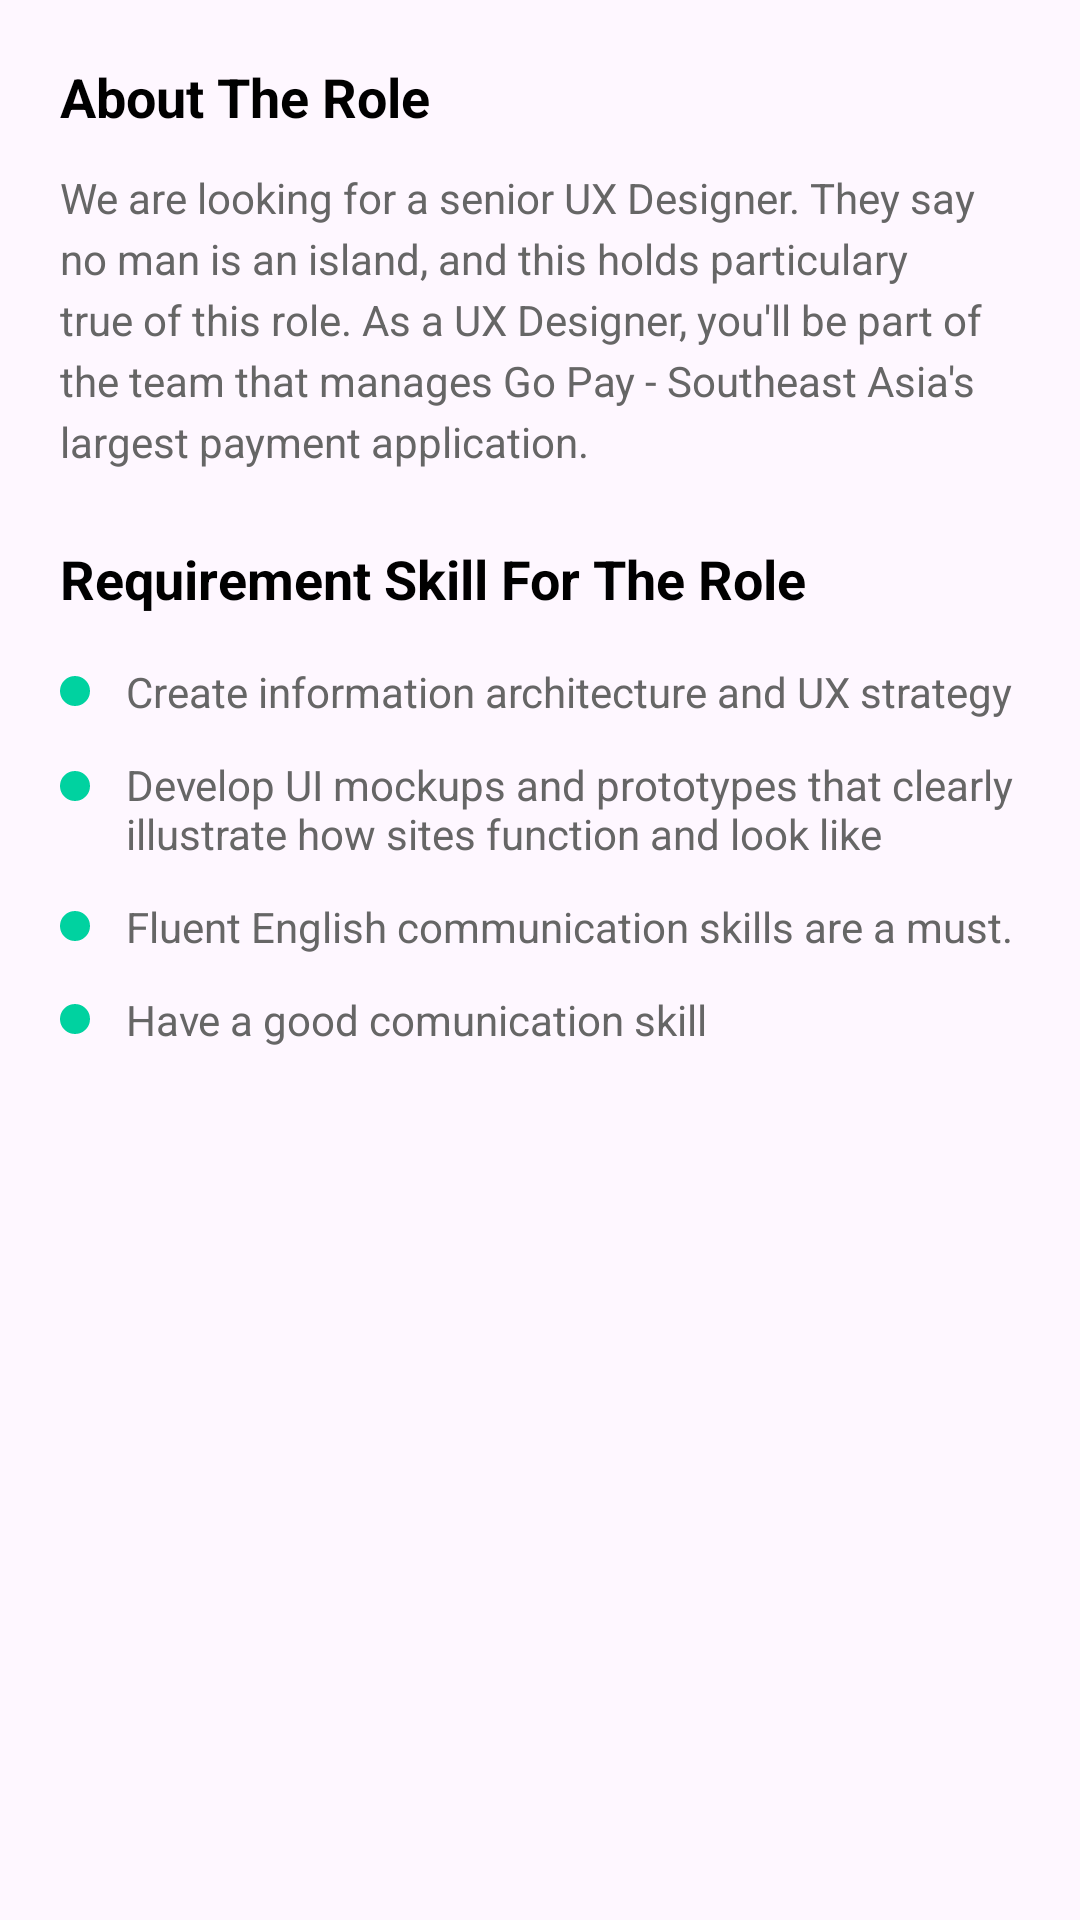

Icons on this 1080*1920 Android screen, each with the point to tap as (x,y):
bullet dot: (75,691), (75,786), (75,926), (75,1019)
